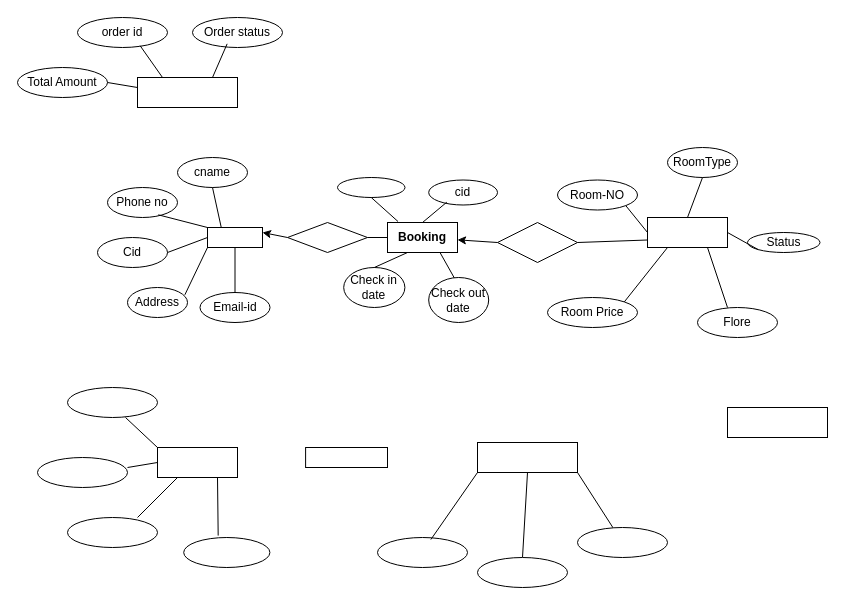
The diagram is 845 pixels wide and 605 high, and some of its shapes have lost their labels. The shapes that lost their labels are listed below. From the top down, each one's centre as x and y in pixels, then its label:
(187,92): Laundary Survice
(370,187): Bid
(234,237): Customer
(327,237): Registe r
(687,232): Room
(197,462): Site
